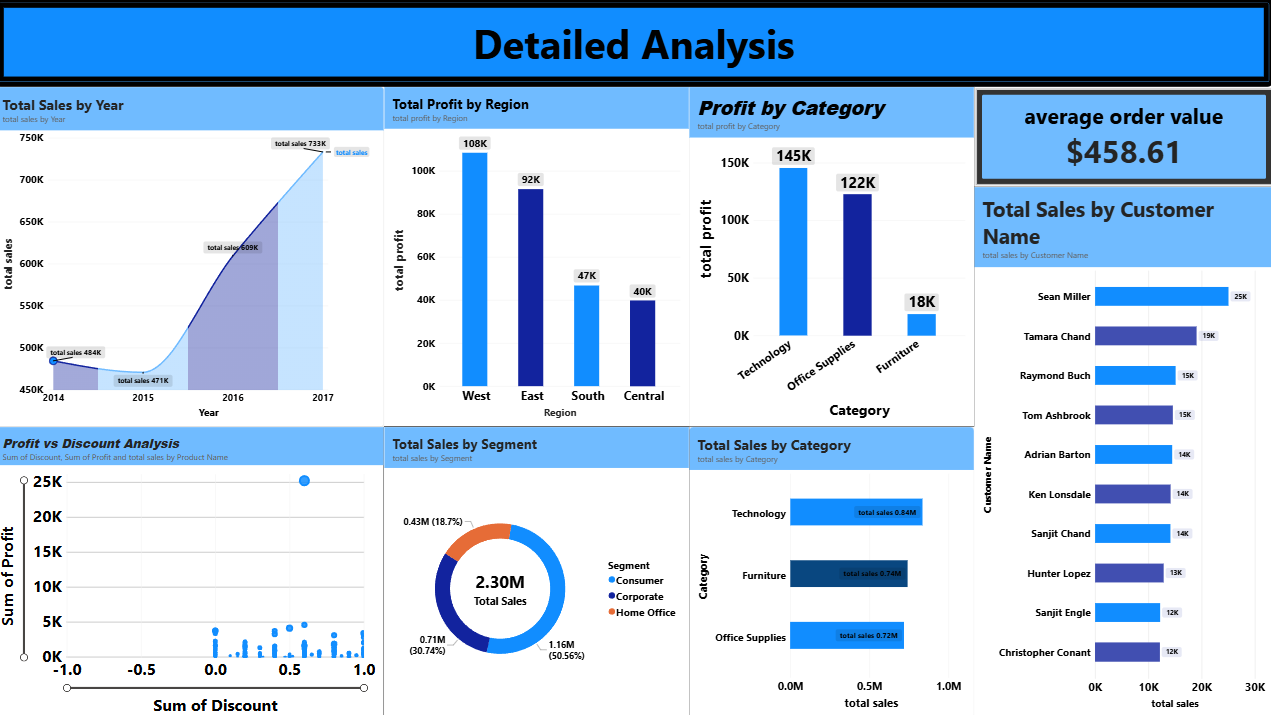

The dashboard page shown, as its layout file describes it:
{"tool":"powerbi","page":{"name":"Detailed Analysis","canvas":[2560,1440],"ordinal":1},"visuals":[{"type":"lineChart","title":"Total Sales by Year","fields":{"Category":["Orders.Order Date.Variation.Date Hierarchy.Year","Orders.Order Date.Variation.Date Hierarchy.Quarter","Orders.Order Date.Variation.Date Hierarchy.Month","Orders.Order Date.Variation.Date Hierarchy.Day"],"Y":["Orders.total sales"]},"box":[0,177.5,780,680],"z":0},{"type":"clusteredBarChart","title":"Total Sales by Category","fields":{"Category":["Orders.Category"],"Y":["Orders.total sales"]},"box":[1390,857.5,570,582.5],"z":1},{"type":"clusteredColumnChart","title":"Total Profit by Region","fields":{"Category":["Orders.Region"],"Y":["Orders.total profit"]},"box":[780,177.5,610,680],"z":2},{"type":"donutChart","title":"Total Sales by Segment","fields":{"Category":["Orders.Segment"],"Y":["Orders.total sales"]},"box":[780,857.5,610,582.5],"z":3},{"type":"clusteredBarChart","title":"Total Sales by Customer Name","fields":{"Category":["Orders.Customer Name"],"Y":["Orders.total sales"]},"box":[1960,377.5,600,1062.5],"z":4},{"type":"cardVisual","title":"Average Order Value","fields":{"Data":["Orders.average order value"]},"box":[1960,177.5,600,200],"z":5},{"type":"scatterChart","title":"Profit vs Discount Analysis","fields":{"Category":["Orders.Product Name"],"Size":["Orders.total sales"],"X":["Sum(Orders.Discount)"],"Y":["Sum(Orders.Profit)"]},"box":[0,857.5,780,582.5],"z":6},{"type":"clusteredColumnChart","title":"Profit by Category","fields":{"Category":["Orders.Category"],"Y":["Orders.total profit"]},"box":[1390,177.5,570,680],"z":7},{"type":"shape","box":[0,0,2560,177.5],"z":8}]}

Visuals, with their boxes in screenshot pixels (x1, y1, x2, y2), scaled from the page's 2560x1440 canvas onto the 1271x715 screenshot:
"Total Sales by Year" lineChart: (0,88,387,426)
"Total Sales by Category" clusteredBarChart: (690,426,973,714)
"Total Profit by Region" clusteredColumnChart: (387,88,690,426)
"Total Sales by Segment" donutChart: (387,426,690,714)
"Total Sales by Customer Name" clusteredBarChart: (973,187,1270,714)
"Average Order Value" cardVisual: (973,88,1270,187)
"Profit vs Discount Analysis" scatterChart: (0,426,387,714)
"Profit by Category" clusteredColumnChart: (690,88,973,426)
shape: (0,0,1270,88)
